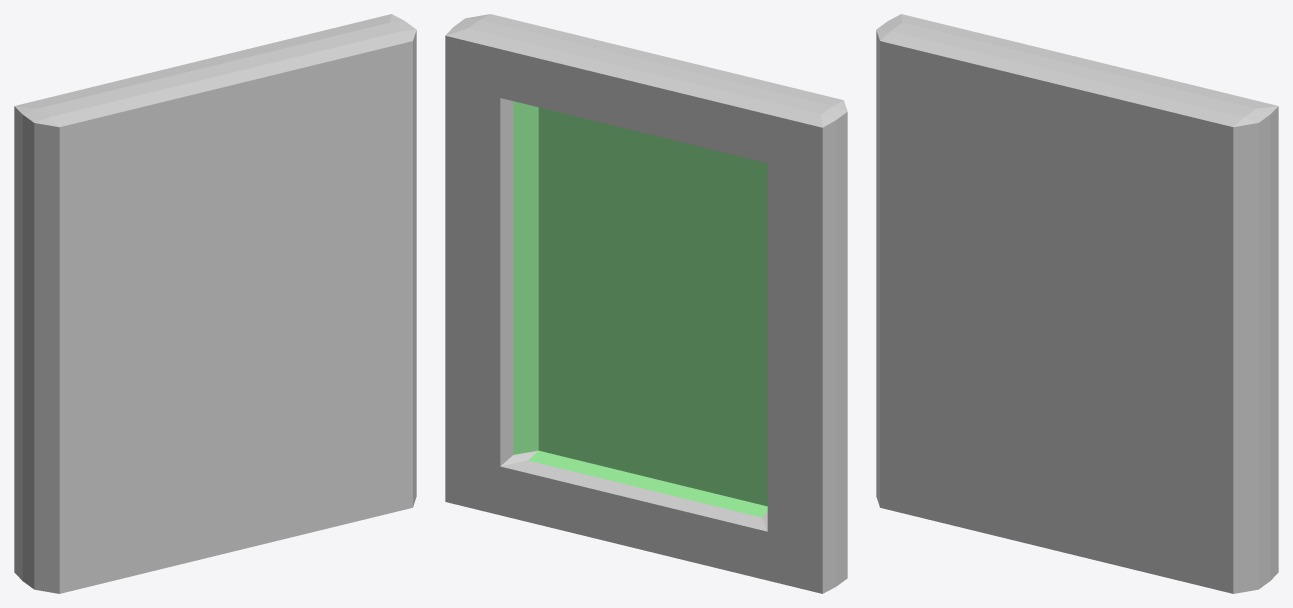
File: Picture_1.fbx
3 views of the same model, side by side, from view 1: azimuth 30°, elevation 25°; view 2: azimuth 150°, elevation 25°; view 3: azimuth 330°, elevation 25° (orthographic).
Visible parts, largest first — view 1: Picture 1; view 2: Picture 1; view 3: Picture 1.
Boxes of the visible parts, <box> form: Picture 1: <box>14,14,416,593</box>; Picture 1: <box>445,14,847,593</box>; Picture 1: <box>876,14,1278,593</box>.
Bounding box in the file's own units: 107 × 125 × 16.07.
